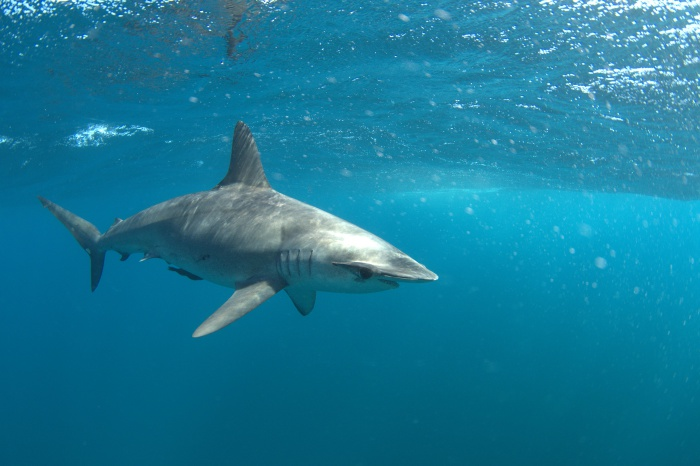Hammer: (24, 110, 447, 348)
